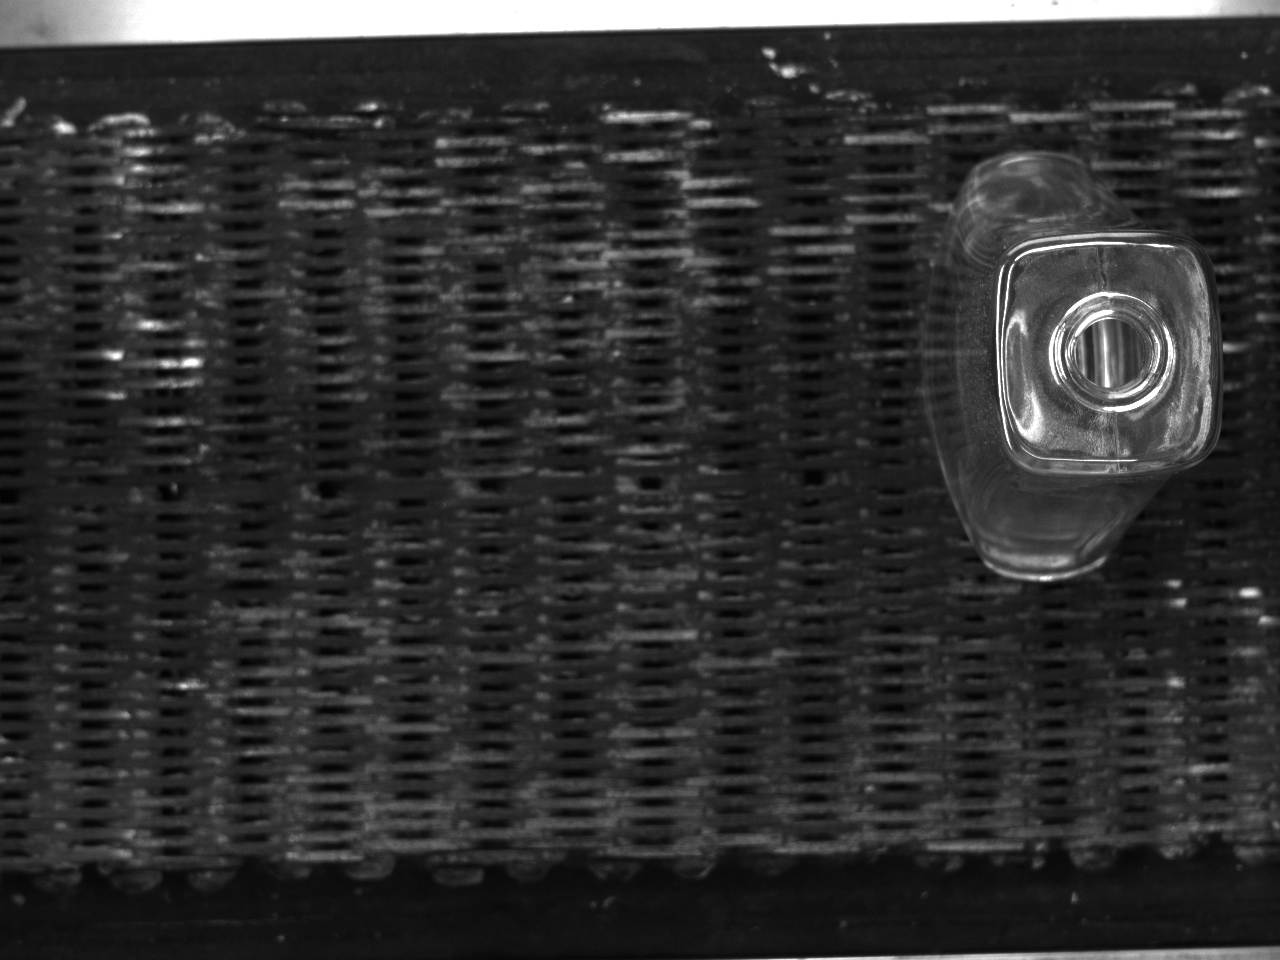bottleneck: (1051, 292, 1177, 413)
